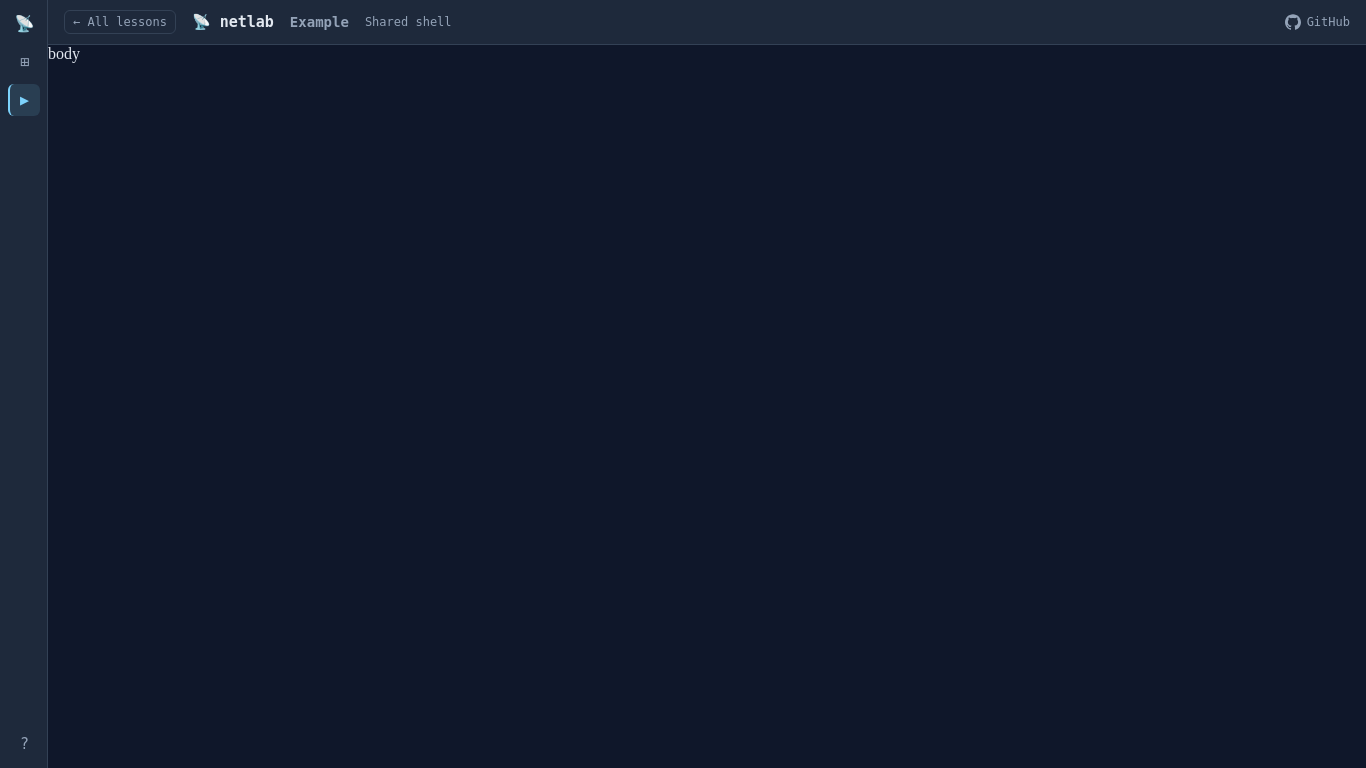
Test: DemoShell command palette chrome › opens the keyboard help overlay from the rail help button
Click the button named "Help".
click(24, 744)  # box [8,728,40,760]
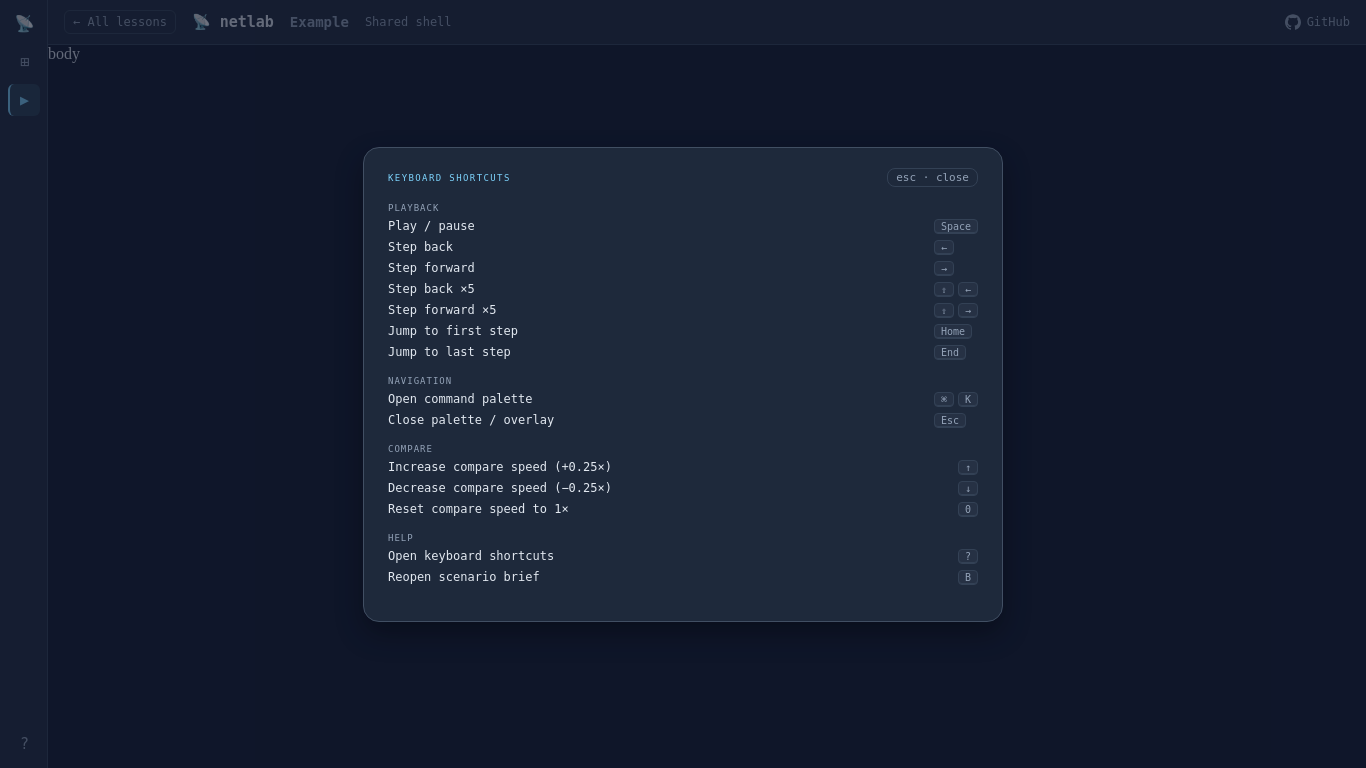
Expected: the element with test id "keyboard-help-overlay" is shown
Expected: the element with test id "keyboard-help-overlay" shows "Open command palette", [388,392,532,406]
